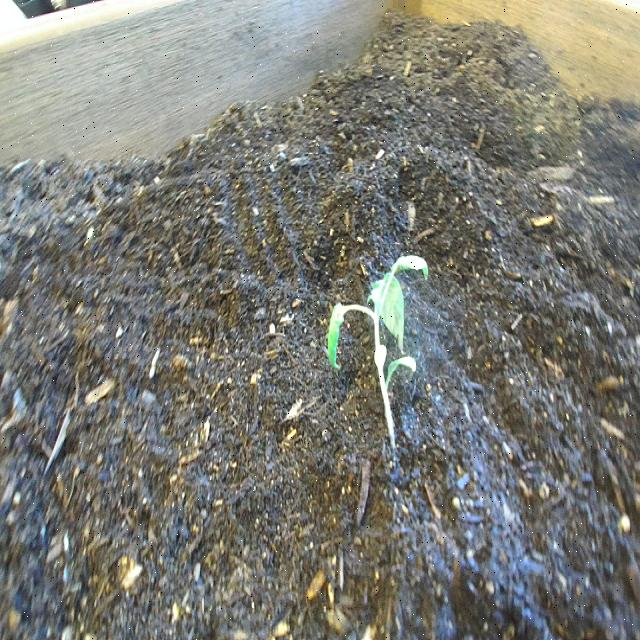Healthy: (314, 237, 433, 460)
